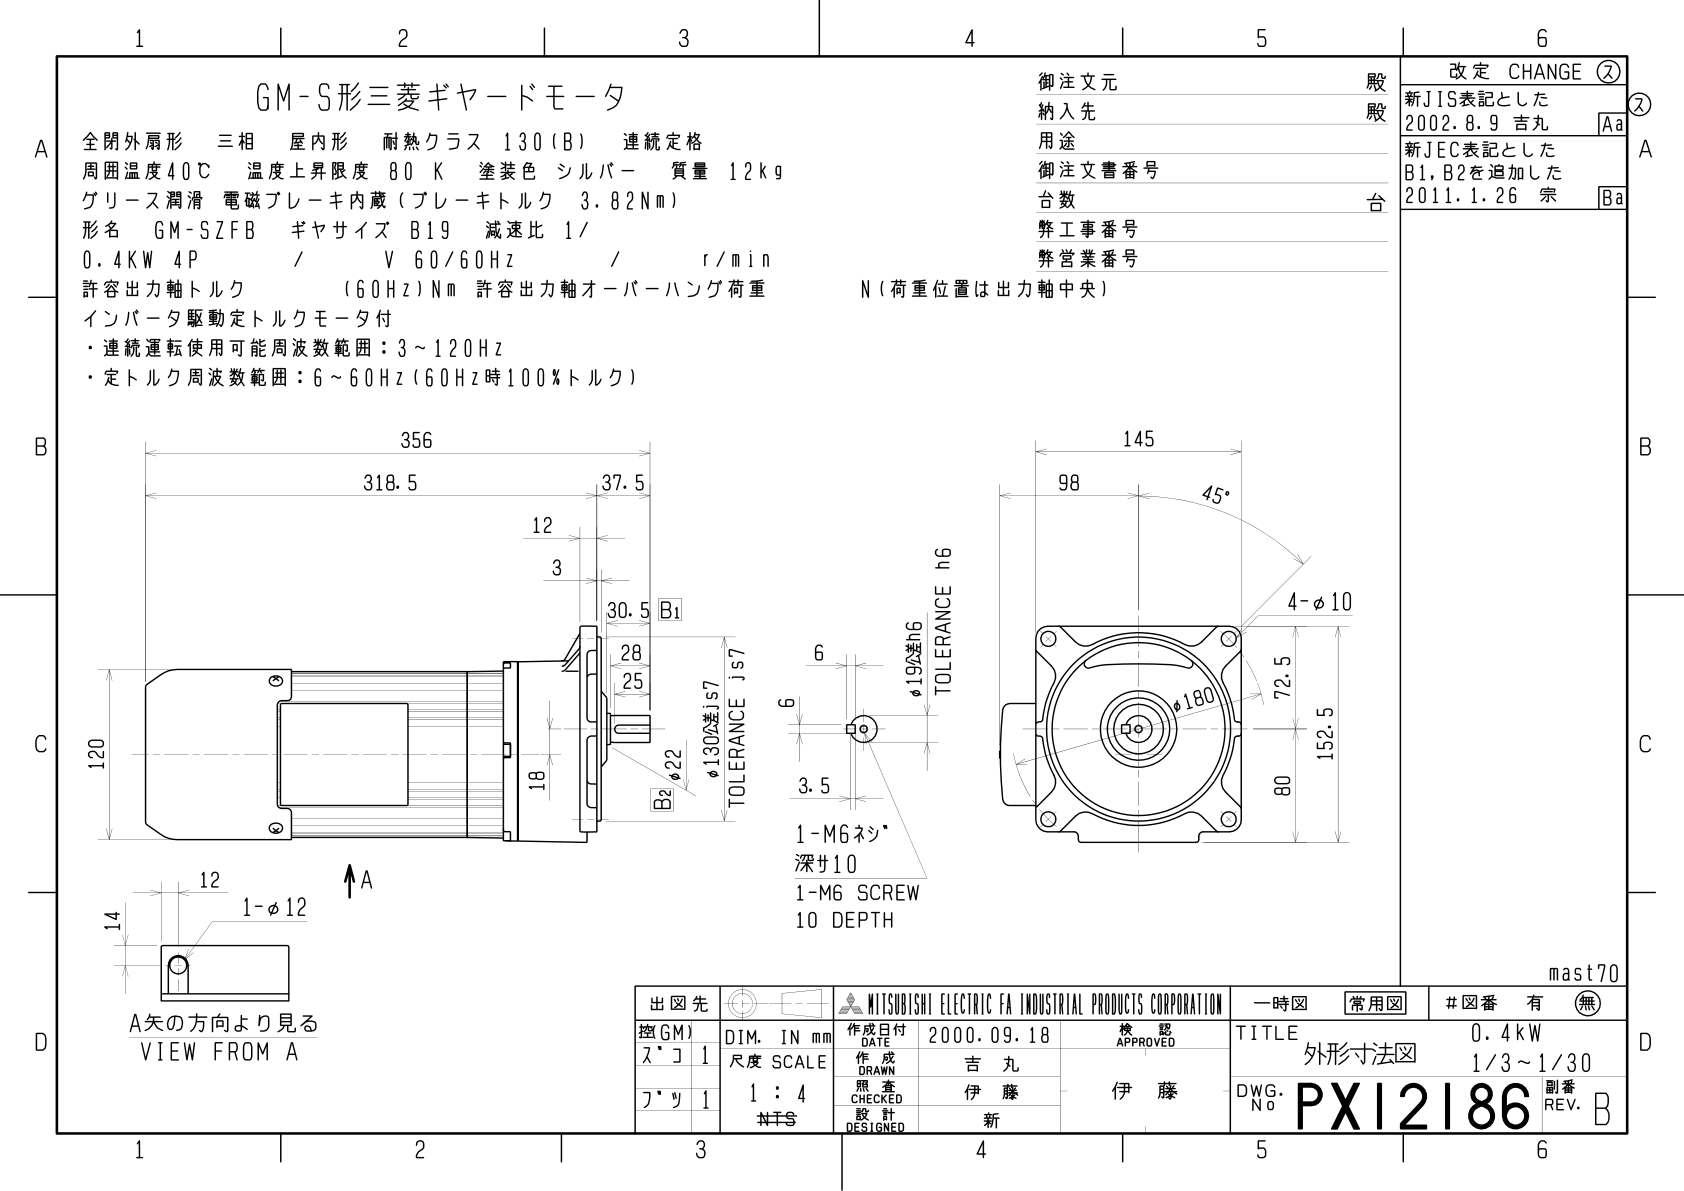GM_S_インバタ屋内＿三相_フランジ: (73, 398, 1383, 962)
